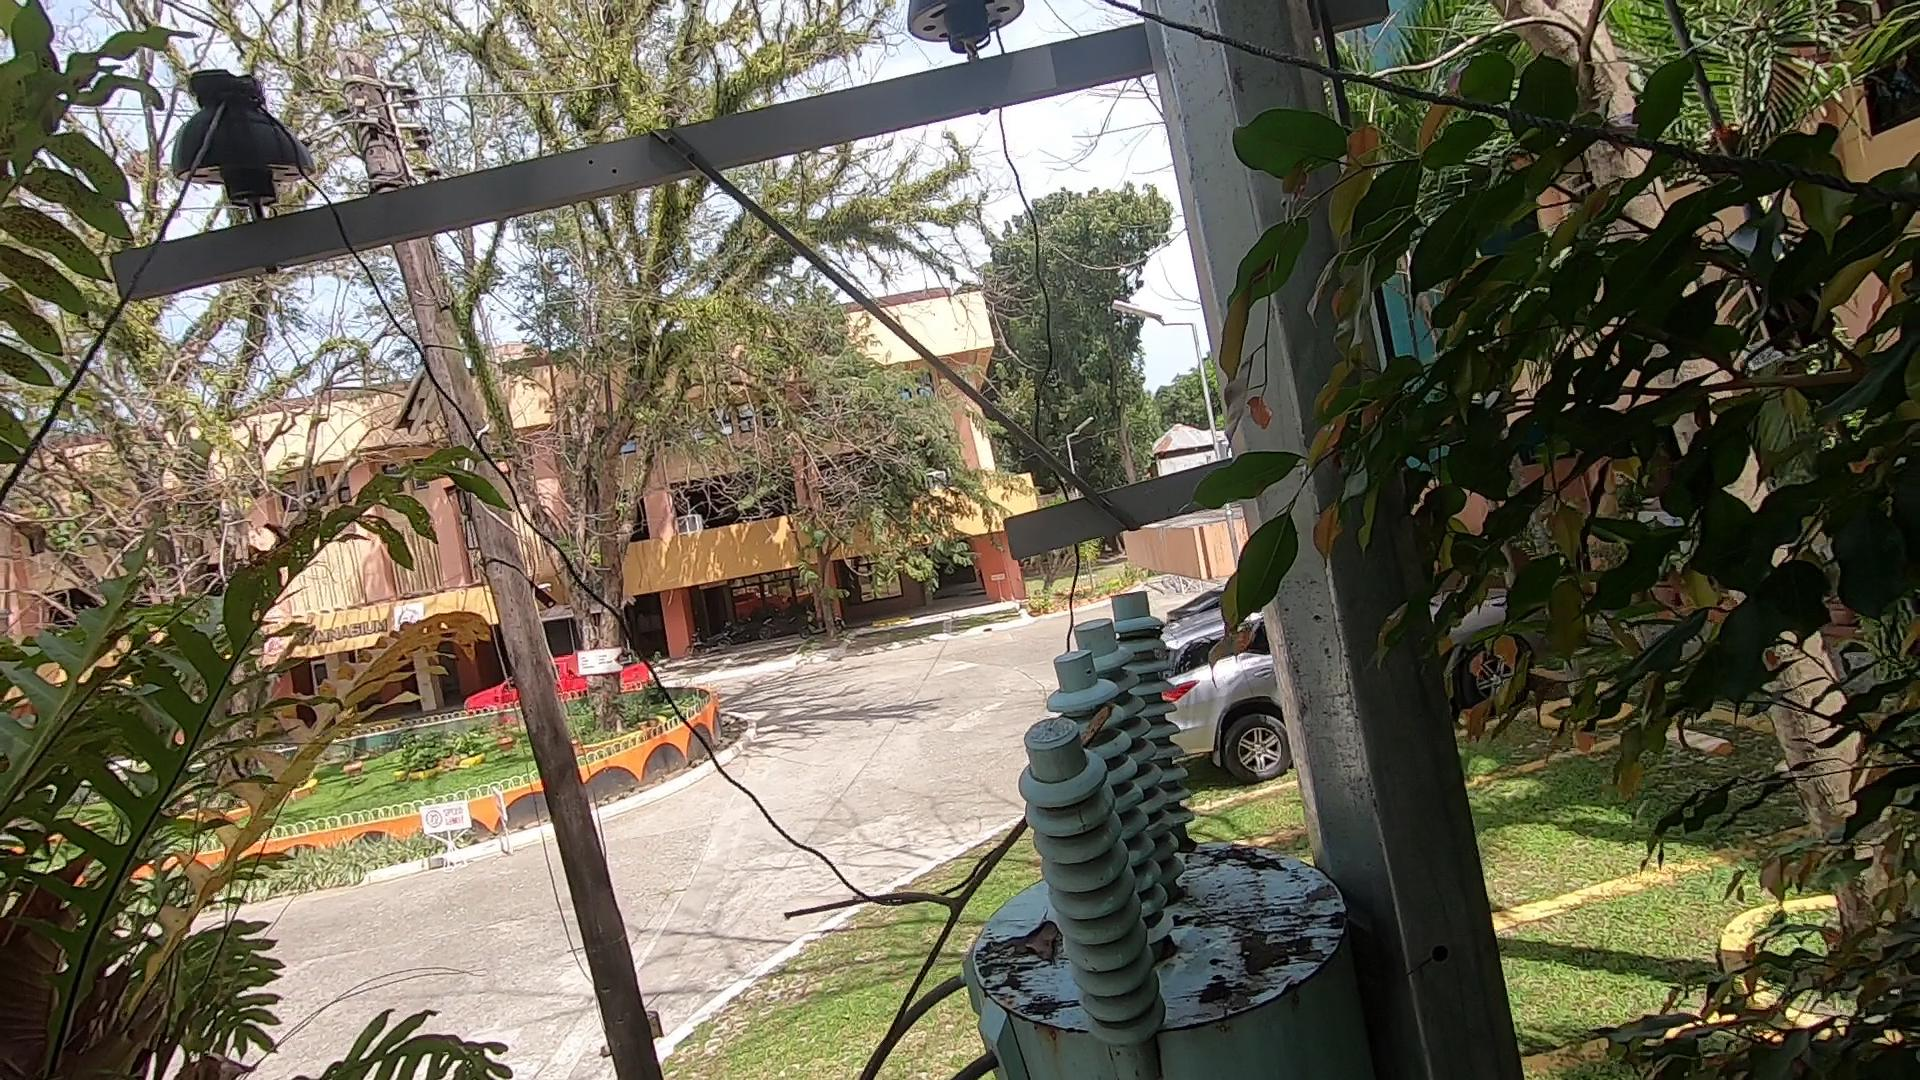leaf: (997, 916, 1088, 986)
tree branch: (746, 741, 1097, 1080)
